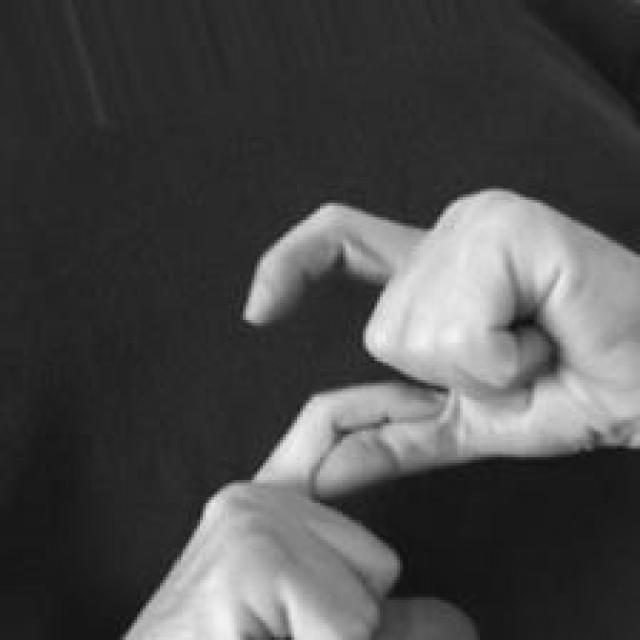S: (123, 183, 640, 637)
